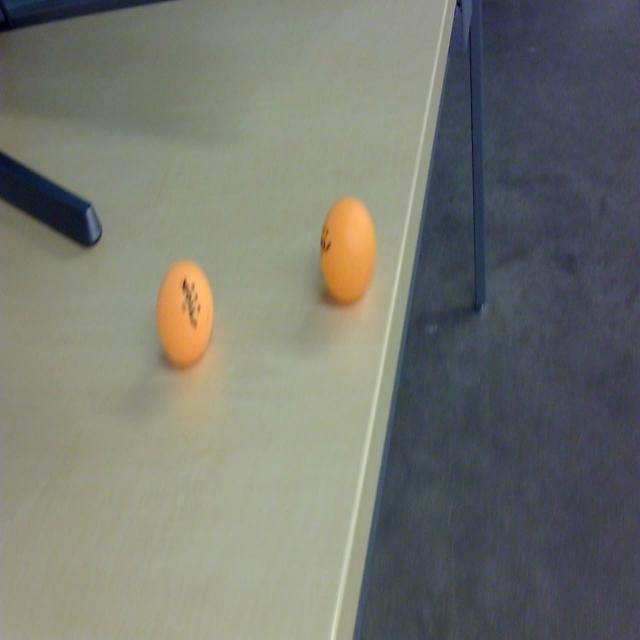ball: (156, 260, 216, 371), (319, 197, 377, 308)
